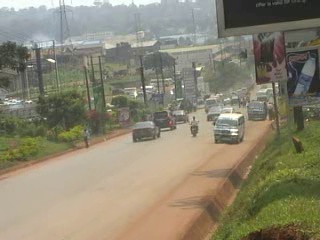Car: (131, 118, 161, 143), (151, 108, 178, 131), (211, 107, 238, 125), (204, 105, 223, 122), (171, 108, 189, 122), (228, 95, 240, 105)
Motorcycle: (187, 119, 199, 136)
